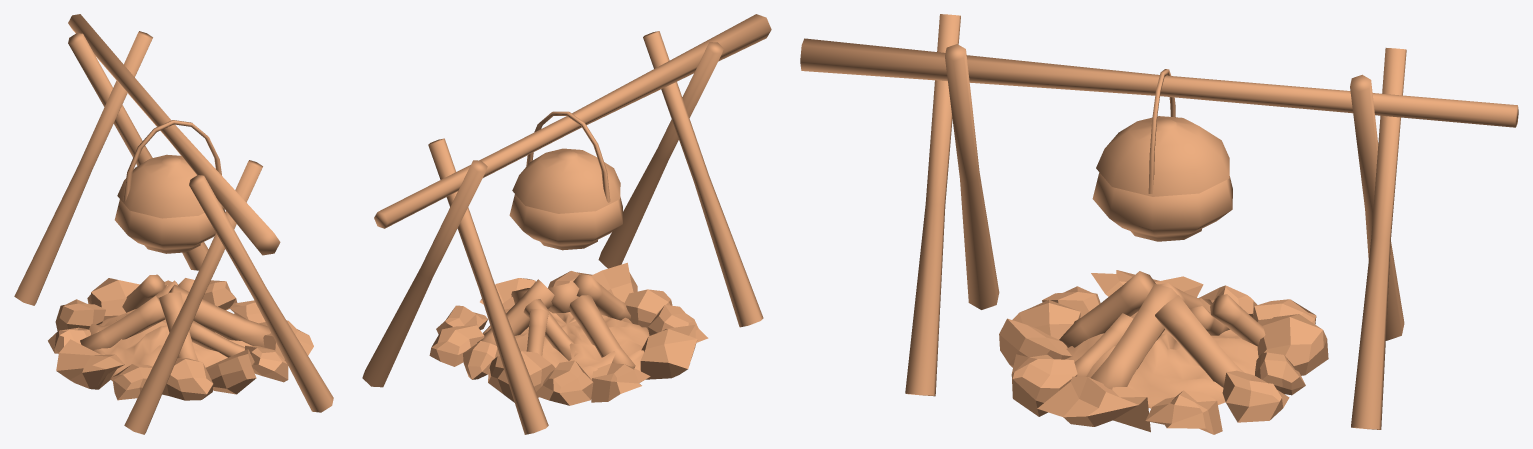
The model's file is fueguis.glb.
The picture shows the model from 3 angles, left to right: view 1: azimuth 30°, elevation 25°; view 2: azimuth 150°, elevation 25°; view 3: azimuth 270°, elevation 25°; orthographic projection. The views are drawn at different scales.
Visible parts, largest first — view 1: Support; view 2: Support; view 3: Support.
Boxes of the visible parts, x1,y1,x2,y2 form: Support: [14, 14, 333, 434]; Support: [362, 14, 771, 434]; Support: [800, 14, 1518, 434].
Size of the model in its own units: 1.51 by 1.64 by 3.13.
